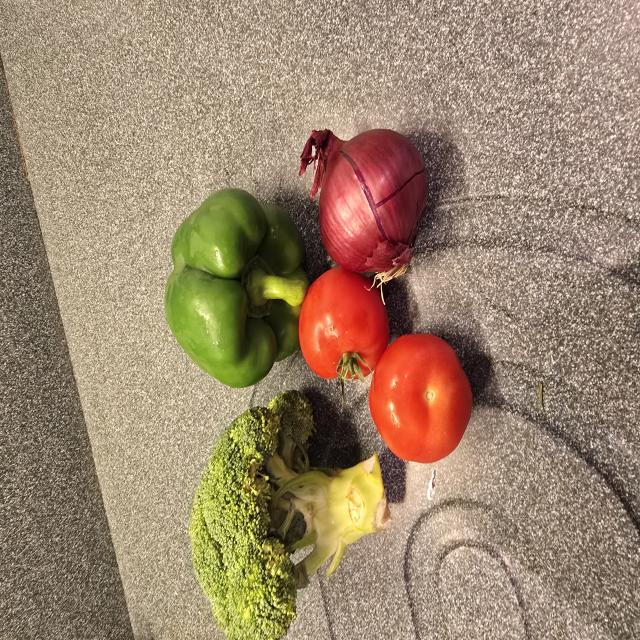Bell Pepper: (165, 188, 308, 387)
Broccoli: (189, 391, 391, 639)
Onion: (300, 129, 427, 280)
Tomato: (368, 334, 472, 463), (299, 267, 389, 383)
